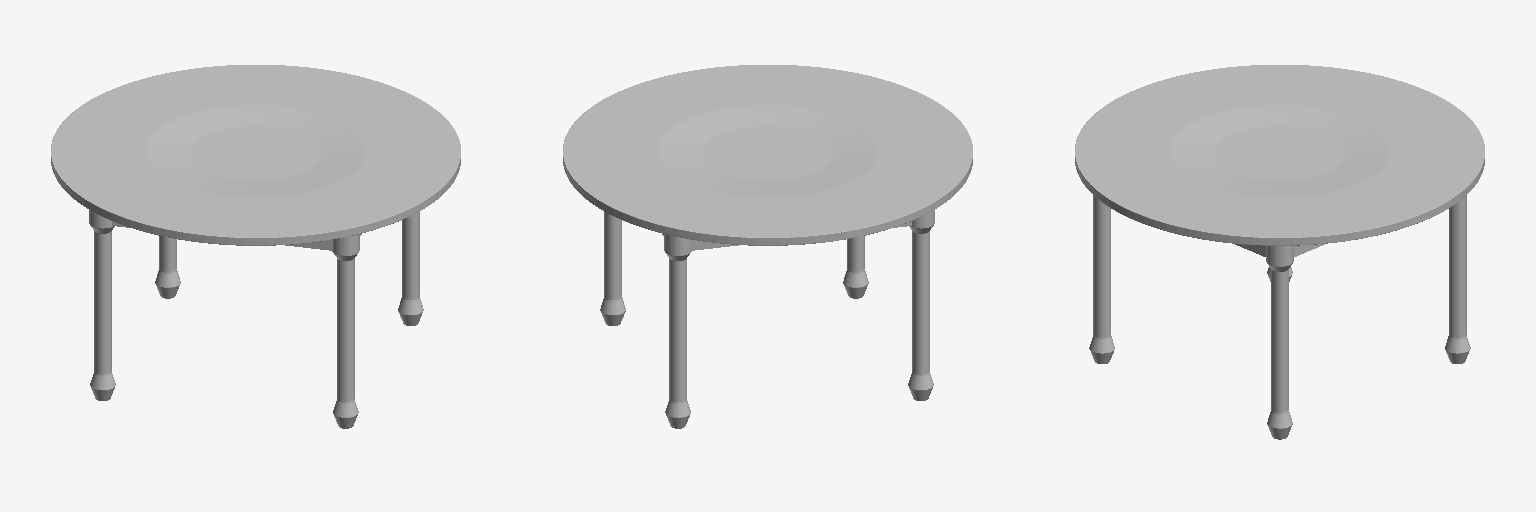
File: table.obj
3 views of the same model, side by side, from view 1: azimuth 30°, elevation 25°; view 2: azimuth 150°, elevation 25°; view 3: azimuth 270°, elevation 25° (orthographic).
Parts seen in each view (by area): view 1: Table, Leg; view 2: Table, Leg; view 3: Table, Leg.
Boxes of the visible parts, box(x1,y1,x2,y2) form: Table: box(51, 65, 460, 245); Leg: box(89, 210, 423, 428); Table: box(563, 65, 972, 245); Leg: box(600, 210, 934, 428); Table: box(1075, 65, 1484, 245); Leg: box(1089, 195, 1470, 439).
Size of the model in its own units: 5.17 by 2.91 by 5.17.